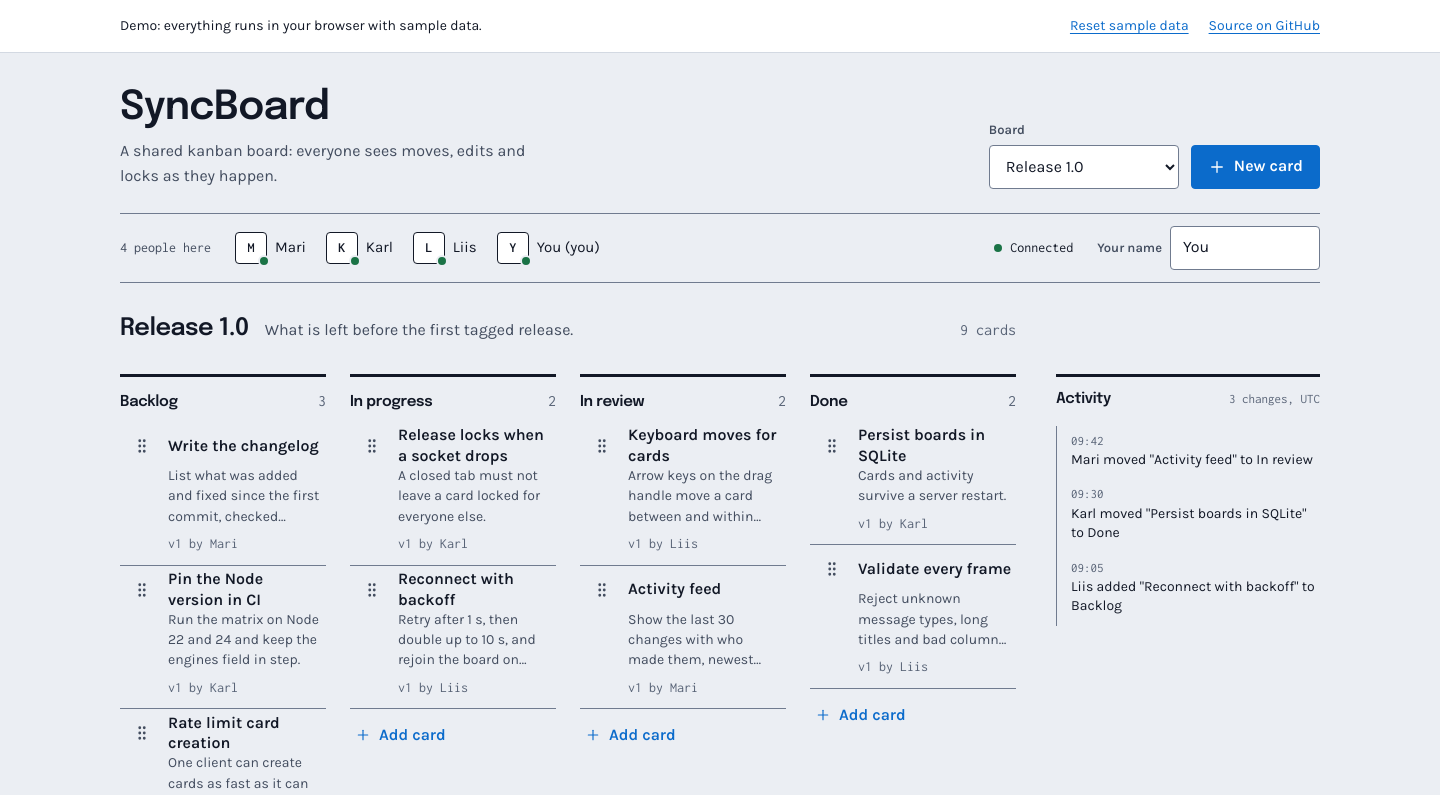
Test: demo board › deletes a card only after a second confirmation
Click the button "Write the changelog". click: (245, 446)
box: [168,424,322,468]
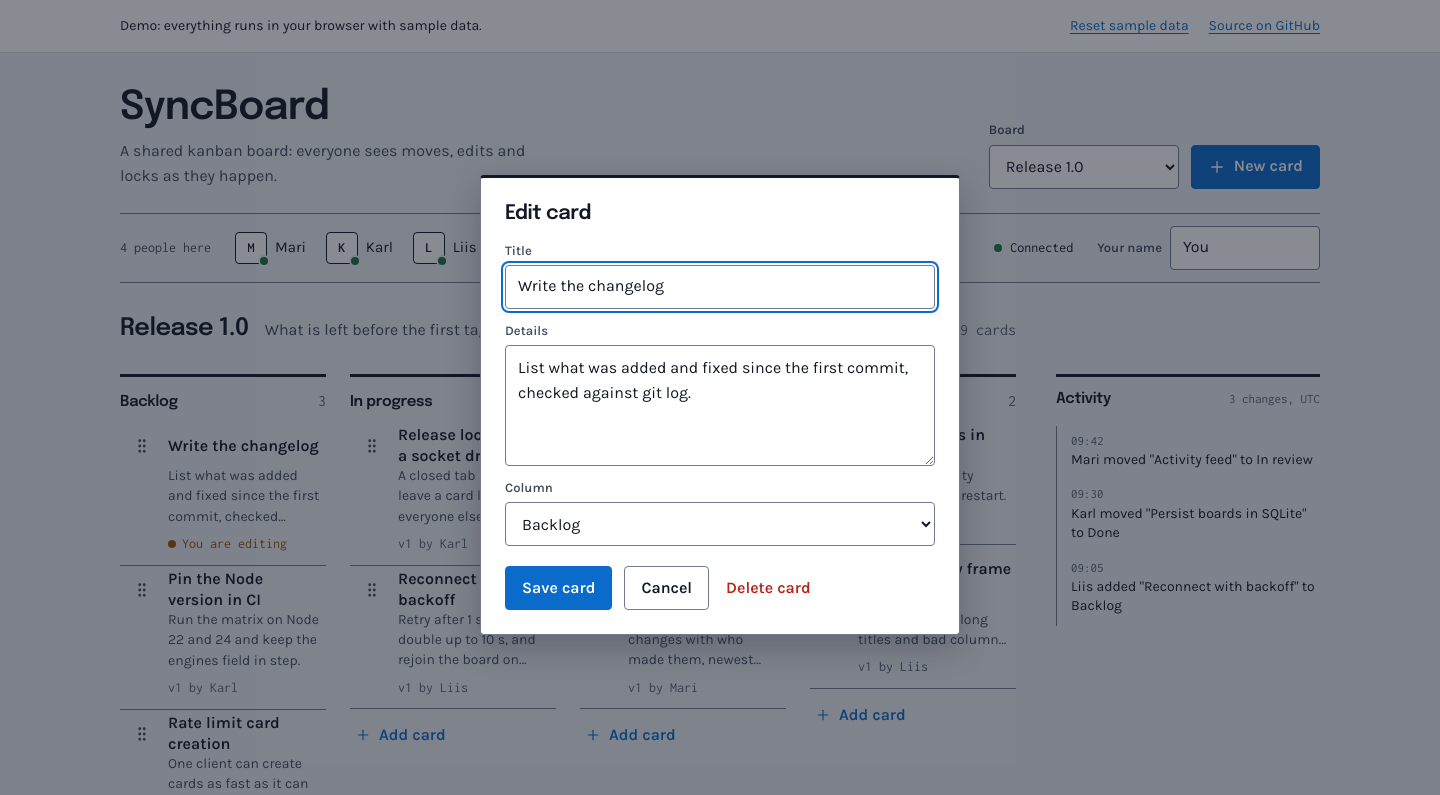
Click the button "Delete card". click: (768, 588)
box: [721,566,816,610]
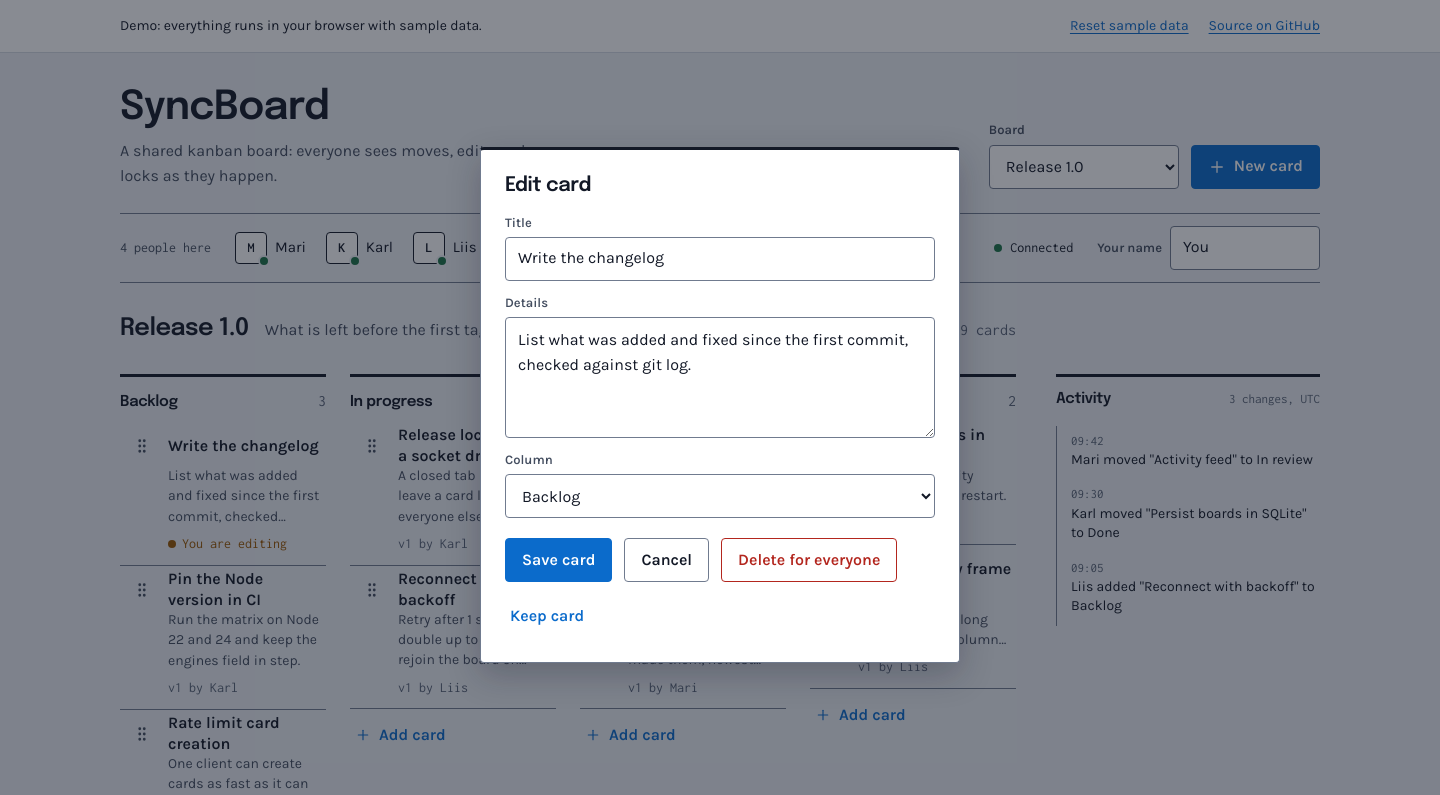
Check: the text "9 cards" is shown, box [960,318,1016,342]
Click the button "Delete for everyone". click: (809, 560)
box: [721,538,897,582]
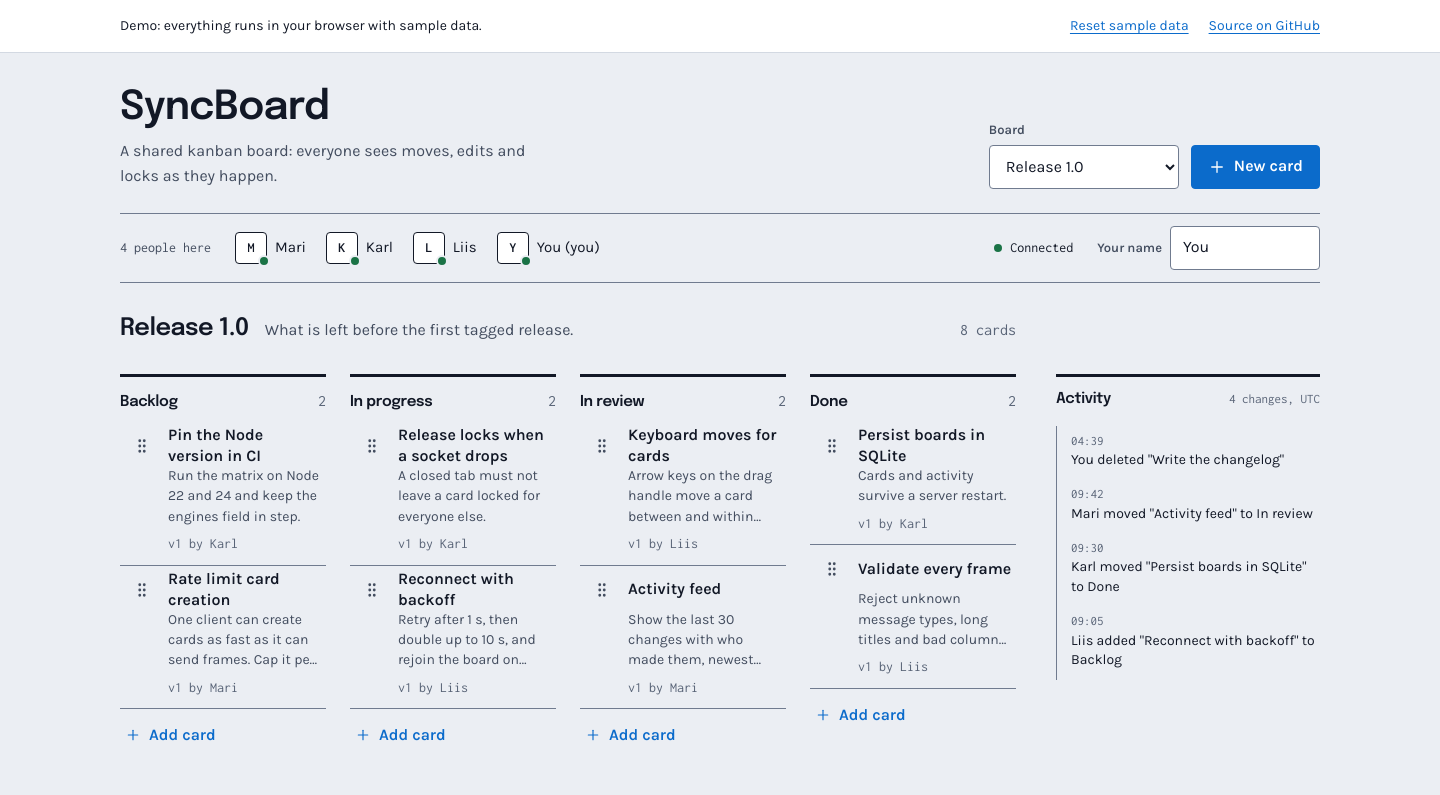
Check: the text "8 cards" is shown, box [960,318,1016,342]
